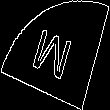M_S: (31, 23, 79, 87)
